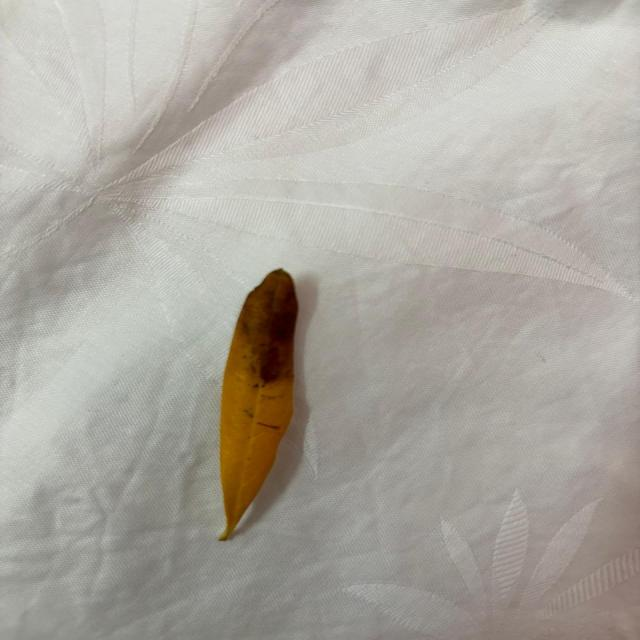Peacock Eye: (219, 268, 298, 541)
